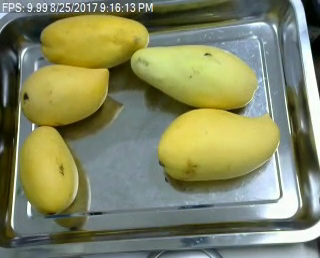Mango: (155, 108, 281, 185), (132, 41, 261, 111), (40, 12, 152, 67), (18, 123, 81, 217), (17, 61, 111, 124)
